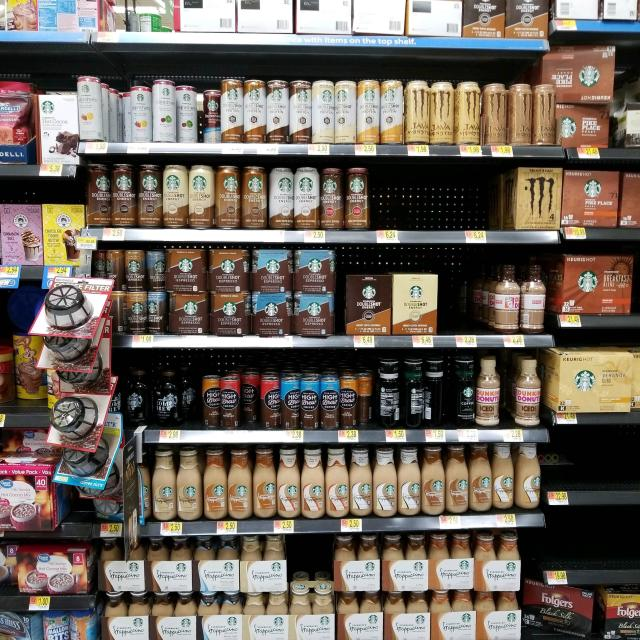void: (372, 161, 406, 242), (440, 262, 465, 348), (405, 162, 431, 242), (482, 164, 508, 242), (466, 262, 490, 346), (614, 429, 640, 505), (590, 430, 614, 508), (544, 433, 569, 507), (566, 430, 589, 510), (457, 166, 481, 242), (432, 163, 455, 242), (546, 512, 570, 586), (616, 510, 640, 582), (594, 510, 615, 586), (572, 510, 591, 584)
